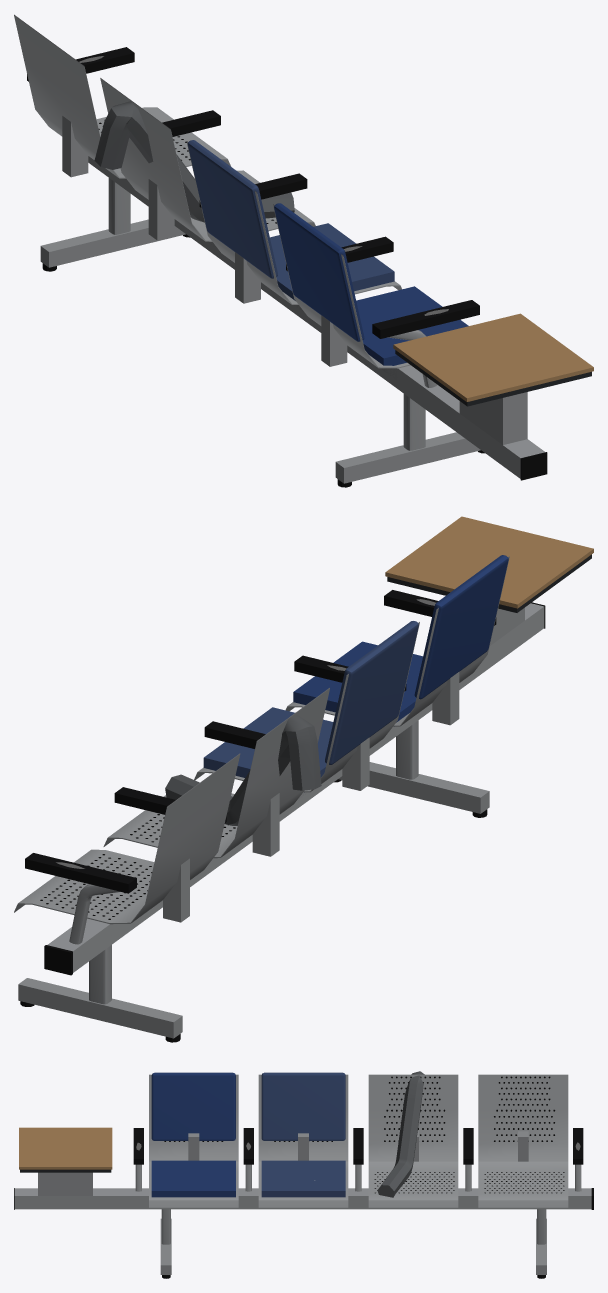
File: seats_row@2.glb
The picture shows the model from 3 angles, top to bottom: view 1: azimuth 30°, elevation 25°; view 2: azimuth 150°, elevation 25°; view 3: azimuth 270°, elevation 25°; orthographic projection. The views are drawn at different scales.
Parts seen in each view (by area): view 1: sitze_0, sitze_2, sitze_9, sitze_4, sitze_5, sitze_1, sitze_10, sitze_8; view 2: sitze_0, sitze_2, sitze_9, sitze_5, sitze_4, sitze_1, sitze_10, sitze_8, sitze_3; view 3: sitze_0, sitze_4, sitze_5, sitze_2, sitze_9, sitze_10, sitze_1, sitze_3, sitze_8.
Part boxes in pixels (<box>): sitze_0: <box>14,14,545,478</box>; sitze_2: <box>40,116,527,483</box>; sitze_9: <box>393,313,593,401</box>; sitze_4: <box>274,203,468,365</box>; sitze_5: <box>187,140,394,300</box>; sitze_1: <box>27,47,547,487</box>; sitze_10: <box>94,101,294,222</box>; sitze_8: <box>395,350,591,406</box>; sitze_0: <box>14,556,544,972</box>; sitze_2: <box>18,607,524,1038</box>; sitze_9: <box>385,516,593,608</box>; sitze_5: <box>203,621,418,792</box>; sitze_4: <box>293,555,508,722</box>; sitze_1: <box>20,590,545,1042</box>; sitze_10: <box>165,714,321,825</box>; sitze_8: <box>387,554,591,612</box>; sitze_3: <box>40,814,235,919</box>; sitze_0: <box>14,1074,591,1209</box>; sitze_4: <box>151,1072,235,1197</box>; sitze_5: <box>261,1072,345,1197</box>; sitze_2: <box>38,1131,581,1274</box>; sitze_9: <box>19,1127,112,1169</box>; sitze_10: <box>377,1071,424,1197</box>; sitze_1: <box>14,1128,593,1278</box>; sitze_3: <box>164,1076,564,1193</box>; sitze_8: <box>20,1169,111,1172</box>.
Size of the model in its own units: 0.7696 by 0.9421 by 3.17.
